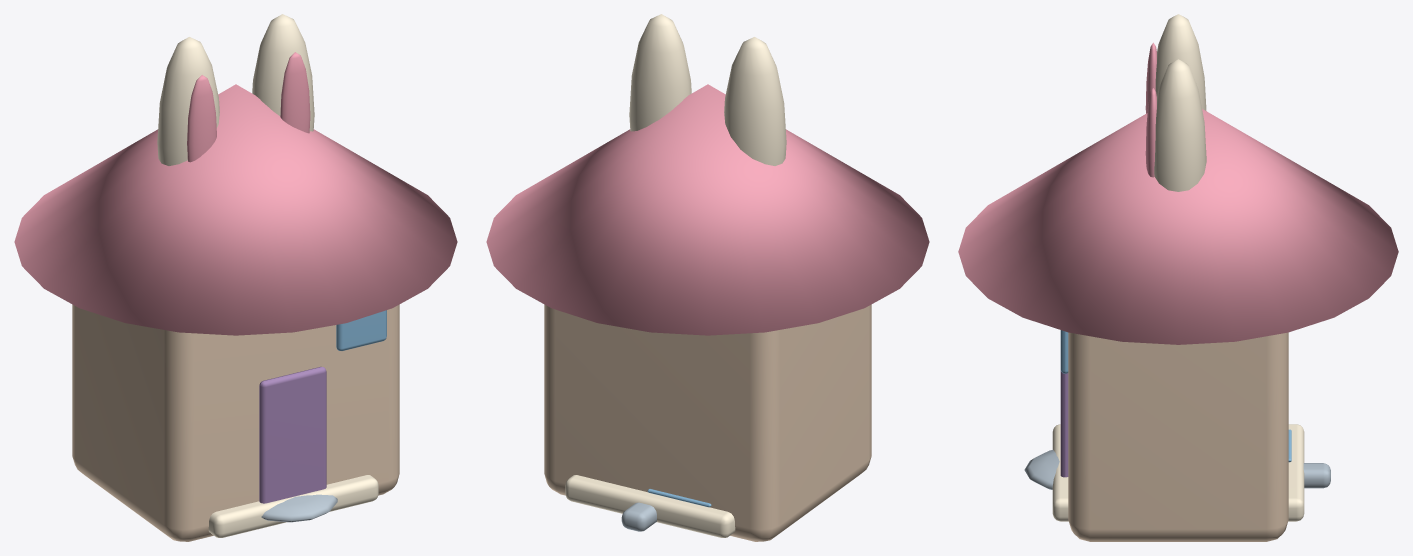
File: toybox.glb
3 views of the same model, side by side, from view 1: azimuth 30°, elevation 25°; view 2: azimuth 150°, elevation 25°; view 3: azimuth 270°, elevation 25° (orthographic).
Parts seen in each view (by area): view 1: house, rabbit, newspaper, spoon; view 2: house, rabbit, newspaper, spoon; view 3: house, rabbit, newspaper, spoon.
Boxes of the visible parts, x1=… form: house: x1=14, y1=84, x2=457, y2=541; rabbit: x1=157, y1=14, x2=314, y2=165; newspaper: x1=208, y1=475, x2=378, y2=537; spoon: x1=261, y1=494, x2=337, y2=522; house: x1=486, y1=84, x2=929, y2=541; rabbit: x1=629, y1=14, x2=786, y2=165; newspaper: x1=565, y1=475, x2=735, y2=537; spoon: x1=621, y1=502, x2=656, y2=531; house: x1=958, y1=109, x2=1398, y2=541; rabbit: x1=1145, y1=14, x2=1206, y2=191; newspaper: x1=1052, y1=424, x2=1304, y2=521; spoon: x1=1024, y1=450, x2=1330, y2=489.
Size of the model in its own units: 1.4 by 1.74 by 1.4.
